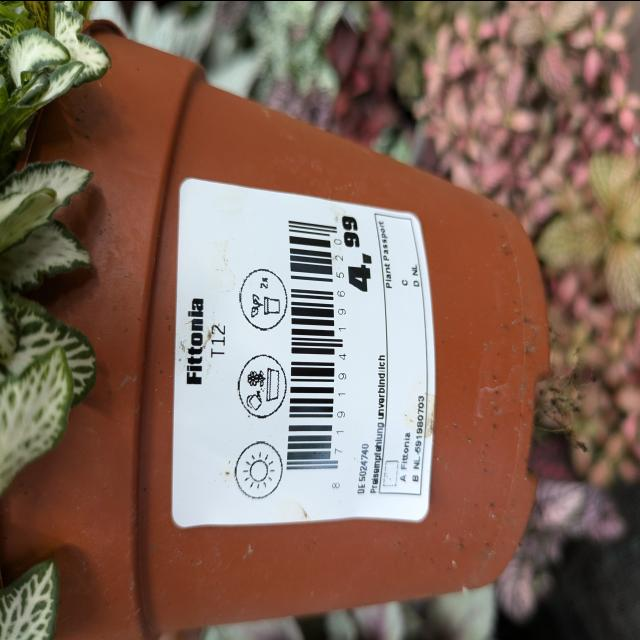dungen: (232, 260, 292, 332)
sonnig: (228, 434, 288, 504)
